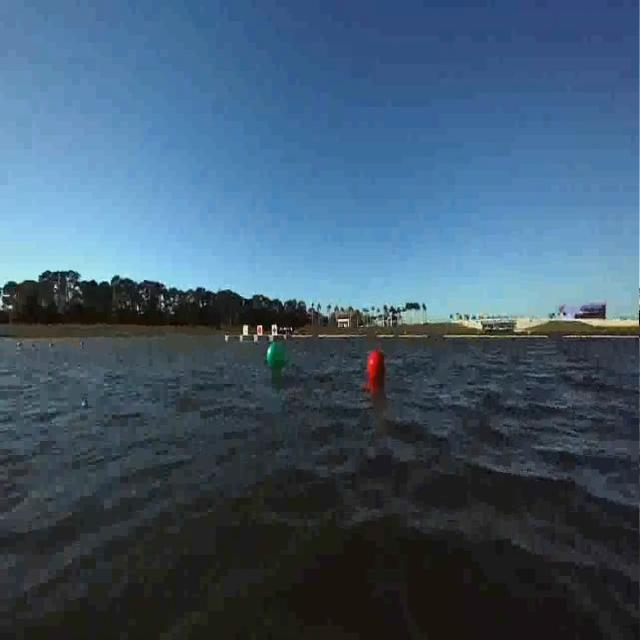green-buoy: (265, 340, 289, 372)
red-buoy: (367, 350, 387, 394)
